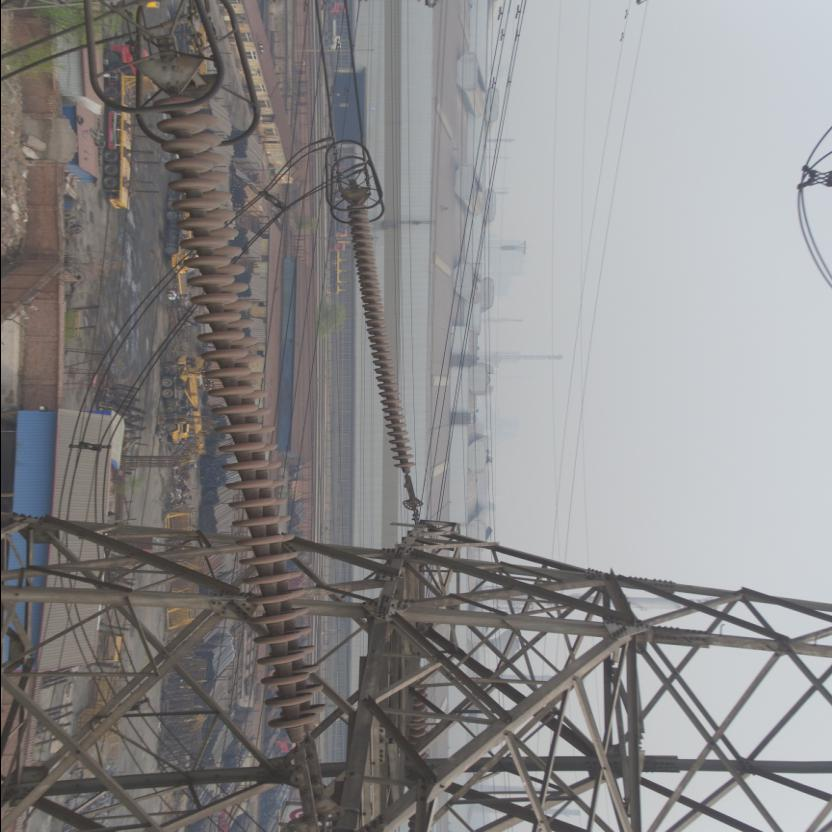insulator: (151, 84, 332, 764), (344, 196, 418, 486)
